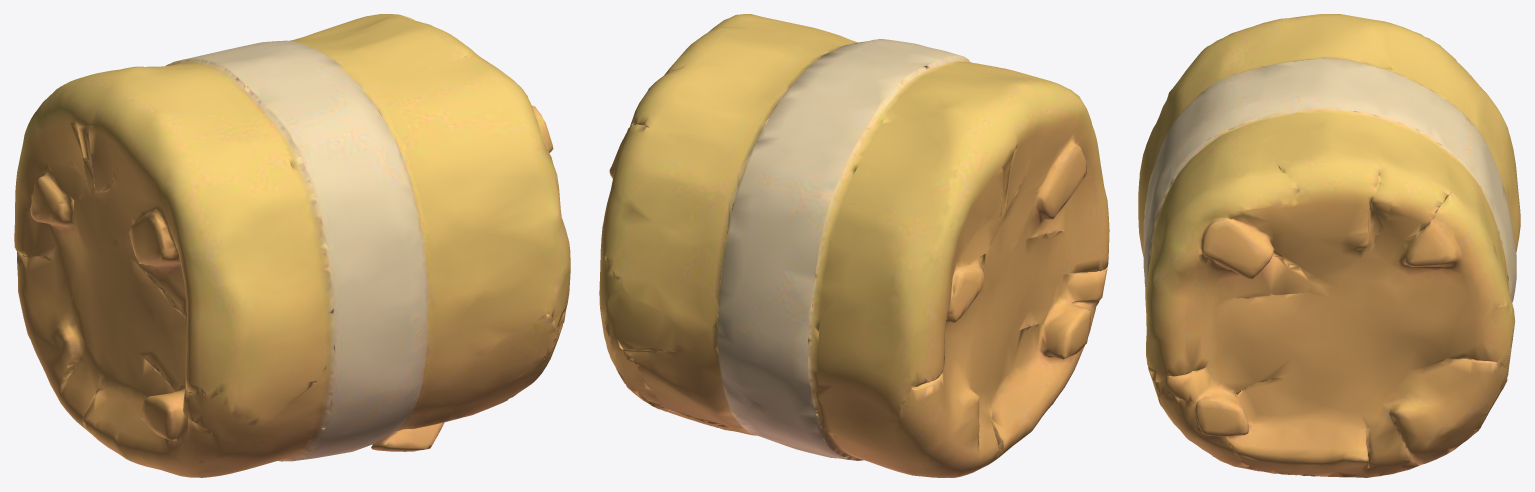
File: hay_bale.glb
3 views of the same model, side by side, from view 1: azimuth 30°, elevation 25°; view 2: azimuth 150°, elevation 25°; view 3: azimuth 270°, elevation 25° (orthographic). The views are drawn at different scales.
Visible parts, largest first — view 1: tripo_node_d3c42d43-e42c-4cd5-8f4f-31731e172ce5; view 2: tripo_node_d3c42d43-e42c-4cd5-8f4f-31731e172ce5; view 3: tripo_node_d3c42d43-e42c-4cd5-8f4f-31731e172ce5.
Part boxes in pixels (bbox=[...]): tripo_node_d3c42d43-e42c-4cd5-8f4f-31731e172ce5: bbox=[14, 14, 570, 477]; tripo_node_d3c42d43-e42c-4cd5-8f4f-31731e172ce5: bbox=[599, 14, 1109, 477]; tripo_node_d3c42d43-e42c-4cd5-8f4f-31731e172ce5: bbox=[1138, 14, 1520, 477].
Bounding box in the file's own units: 0.998 × 0.9512 × 0.9434.
1 material, 1 textured.
